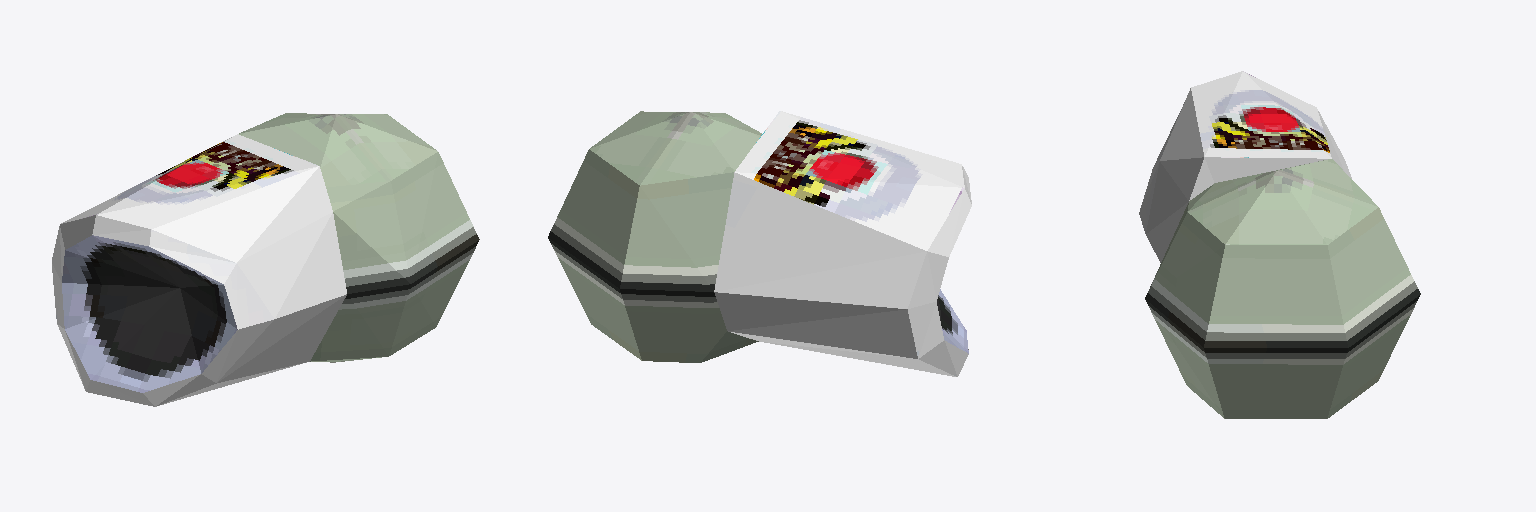
The picture shows the model from 3 angles: view 1: azimuth 30°, elevation 25°; view 2: azimuth 150°, elevation 25°; view 3: azimuth 270°, elevation 25°; orthographic projection.
Parts seen in each view (by area): view 1: buzzlightyRightArm_buzzlighty.001; view 2: buzzlightyRightArm_buzzlighty.001; view 3: buzzlightyRightArm_buzzlighty.001.
Boxes of the visible parts, <box> form: buzzlightyRightArm_buzzlighty.001: <box>52,113,479,406</box>; buzzlightyRightArm_buzzlighty.001: <box>548,111,971,376</box>; buzzlightyRightArm_buzzlighty.001: <box>1139,71,1420,418</box>.
Size of the model in its own units: 0.1718 by 0.1093 by 0.1128.
1 materials, 1 textured.